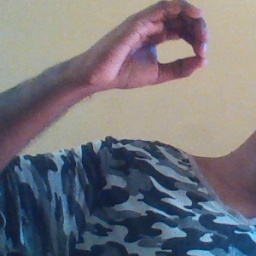O: (98, 1, 213, 92)
